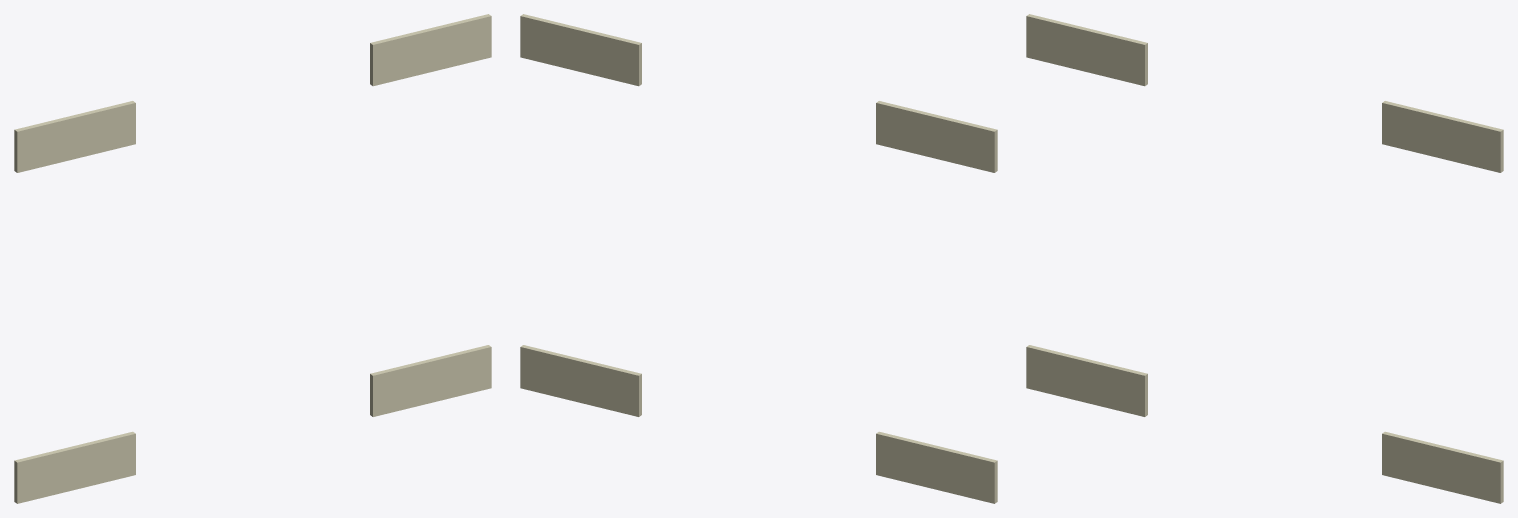
The model's file is lights.obj.
3 views of the same model, side by side, from view 1: azimuth 30°, elevation 25°; view 2: azimuth 150°, elevation 25°; view 3: azimuth 330°, elevation 25° (orthographic).
Parts seen in each view (by area): view 1: ceiling_light_0_0, ceiling_light_0_1, ceiling_light_1_0, ceiling_light_1_1; view 2: ceiling_light_0_0, ceiling_light_0_1, ceiling_light_1_0, ceiling_light_1_1; view 3: ceiling_light_0_0, ceiling_light_0_1, ceiling_light_1_0, ceiling_light_1_1.
Part boxes in pixels (box(x1,y1,x2,y2)): ceiling_light_0_0: box(14, 431, 135, 503); ceiling_light_0_1: box(14, 101, 135, 172); ceiling_light_1_0: box(370, 345, 491, 416); ceiling_light_1_1: box(370, 14, 491, 86); ceiling_light_0_0: box(876, 431, 997, 503); ceiling_light_0_1: box(876, 101, 997, 172); ceiling_light_1_0: box(520, 345, 641, 416); ceiling_light_1_1: box(520, 14, 641, 86); ceiling_light_0_0: box(1026, 345, 1147, 416); ceiling_light_0_1: box(1026, 14, 1147, 86); ceiling_light_1_0: box(1382, 431, 1503, 503); ceiling_light_1_1: box(1382, 101, 1503, 172).
Bounding box in the file's own units: 4.8 × 3.6 × 0.05.
